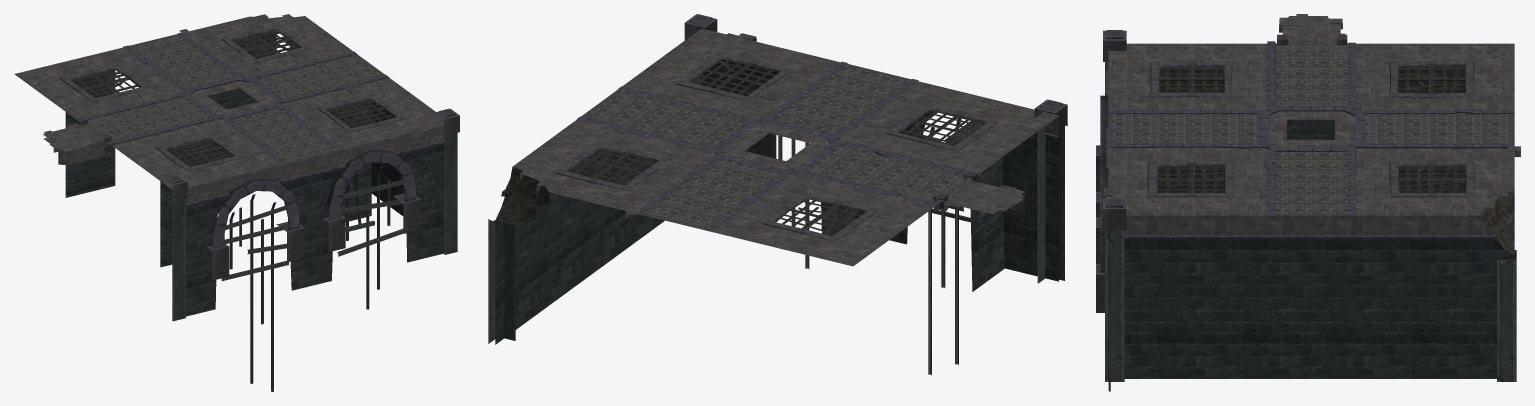
Rendered from building_section02_guanka10C10.FBX.
3 renders of one model, left to right at view 1: azimuth 30°, elevation 25°; view 2: azimuth 150°, elevation 25°; view 3: azimuth 270°, elevation 25°, orthographic. The views are drawn at different scales.
Visible parts, largest first — view 1: building_section02_guanka10C10; view 2: building_section02_guanka10C10; view 3: building_section02_guanka10C10.
Boxes of the visible parts, x1=… form: building_section02_guanka10C10: x1=14, y1=14, x2=459, y2=391; building_section02_guanka10C10: x1=488, y1=14, x2=1067, y2=374; building_section02_guanka10C10: x1=1096, y1=14, x2=1520, y2=391.
Bounding box in the file's own units: 56.38 × 38.32 × 49.47.
